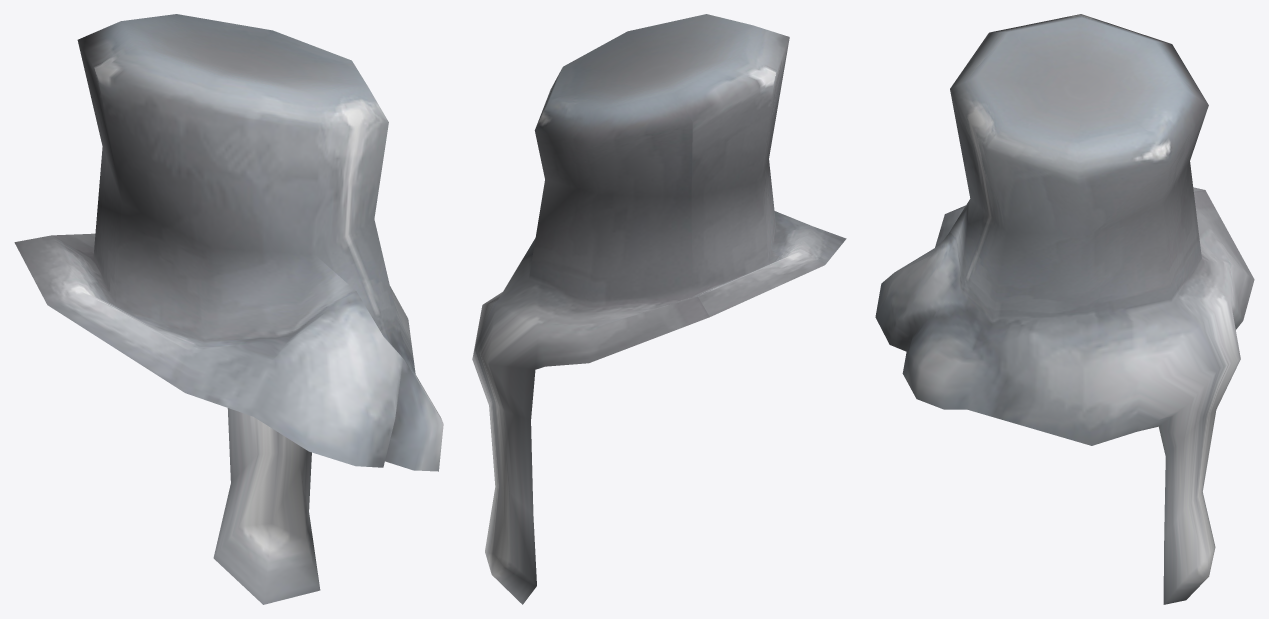
Rendered from A_CR_GEN_Candle_03.fbx.
3 renders of one model, left to right at view 1: azimuth 30°, elevation 25°; view 2: azimuth 150°, elevation 25°; view 3: azimuth 270°, elevation 25°, orthographic. The views are drawn at different scales.
Parts seen in each view (by area): view 1: A_CR_GEN_Candle_03; view 2: A_CR_GEN_Candle_03; view 3: A_CR_GEN_Candle_03.
Part boxes in pixels (<box>): A_CR_GEN_Candle_03: <box>14,14,443,604</box>; A_CR_GEN_Candle_03: <box>472,14,846,604</box>; A_CR_GEN_Candle_03: <box>875,14,1254,604</box>.
Bounding box in the file's own units: 40.67 × 68.31 × 46.11.
Materials: 1 (1 with a texture image).
